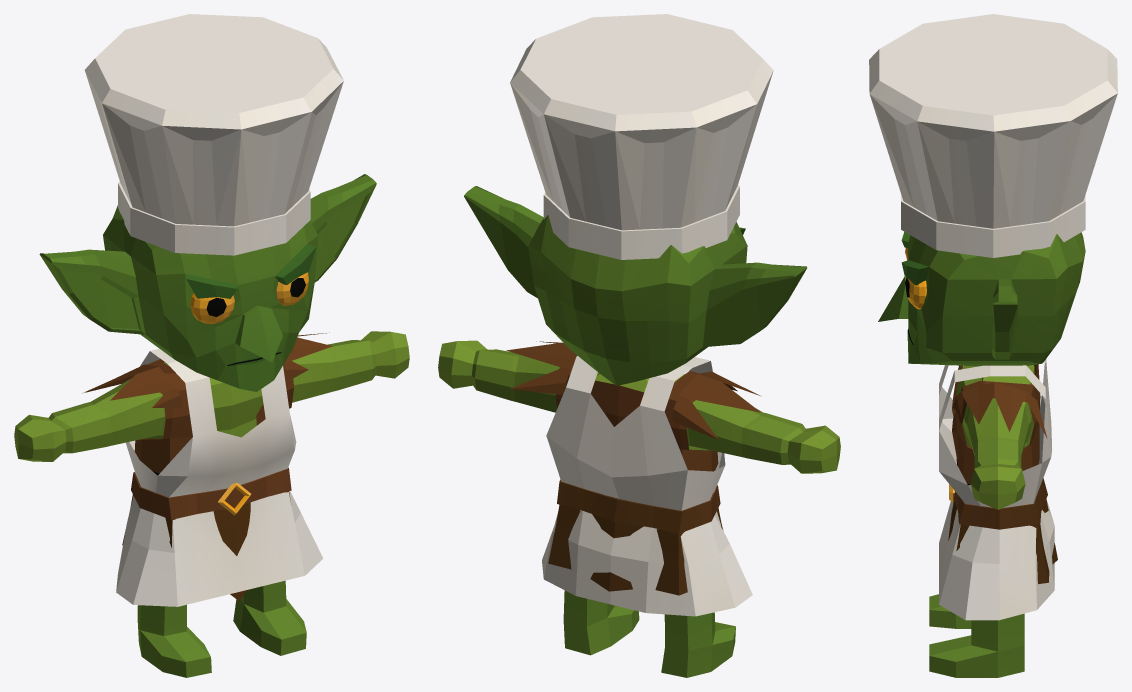
Rendered from cook_gob.fbx.
The picture shows the model from 3 angles, left to right: view 1: azimuth 30°, elevation 25°; view 2: azimuth 150°, elevation 25°; view 3: azimuth 270°, elevation 25°; orthographic projection.
Parts seen in each view (by area): view 1: Goblin; view 2: Goblin; view 3: Goblin.
Boxes of the visible parts, <box> form: Goblin: <box>14,14,409,677</box>; Goblin: <box>438,14,840,677</box>; Goblin: <box>869,14,1117,677</box>.
Size of the model in its own units: 34.49 by 49.12 by 19.13.
